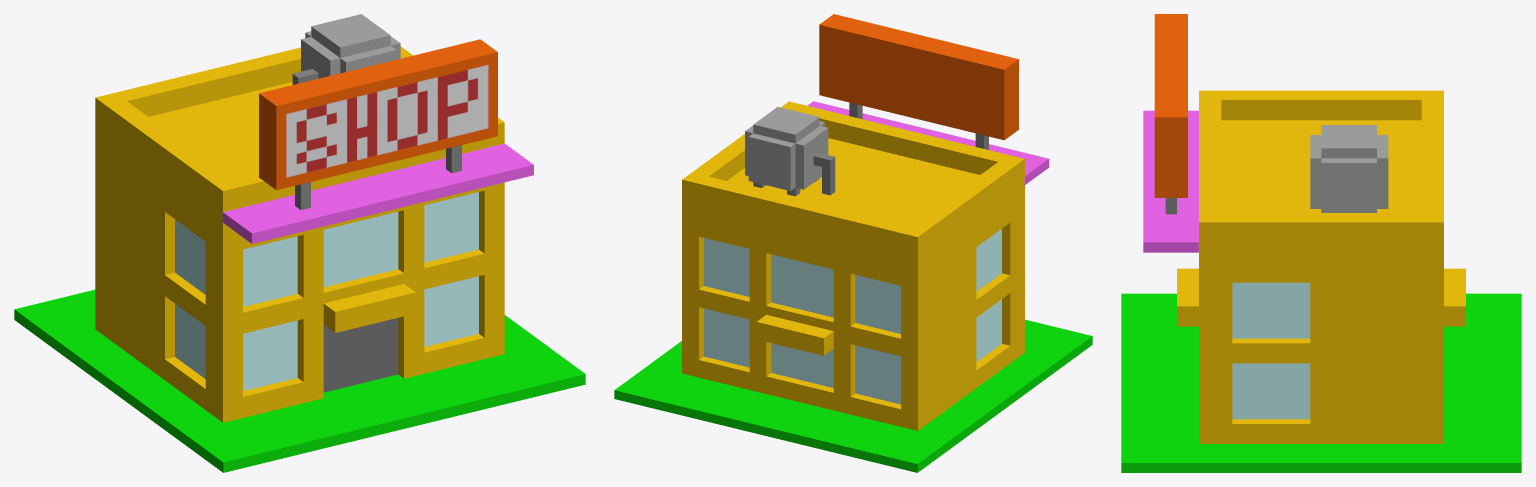
File: building_07.fbx
The picture shows the model from 3 angles, left to right: view 1: azimuth 30°, elevation 25°; view 2: azimuth 150°, elevation 25°; view 3: azimuth 270°, elevation 25°; orthographic projection. The views are drawn at different scales.
Visible parts, largest first — view 1: building_07; view 2: building_07; view 3: building_07.
Part boxes in pixels (left/top/right/bottom): building_07: left=14, top=14, right=585, bottom=472; building_07: left=614, top=14, right=1092, bottom=472; building_07: left=1121, top=14, right=1521, bottom=472.
Size of the model in its own units: 360 by 320 by 360.
Materials: 1 (1 with a texture image).
